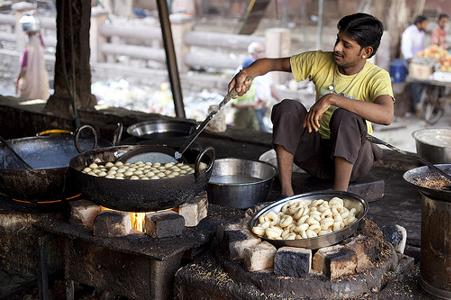person: (226, 13, 395, 195)
